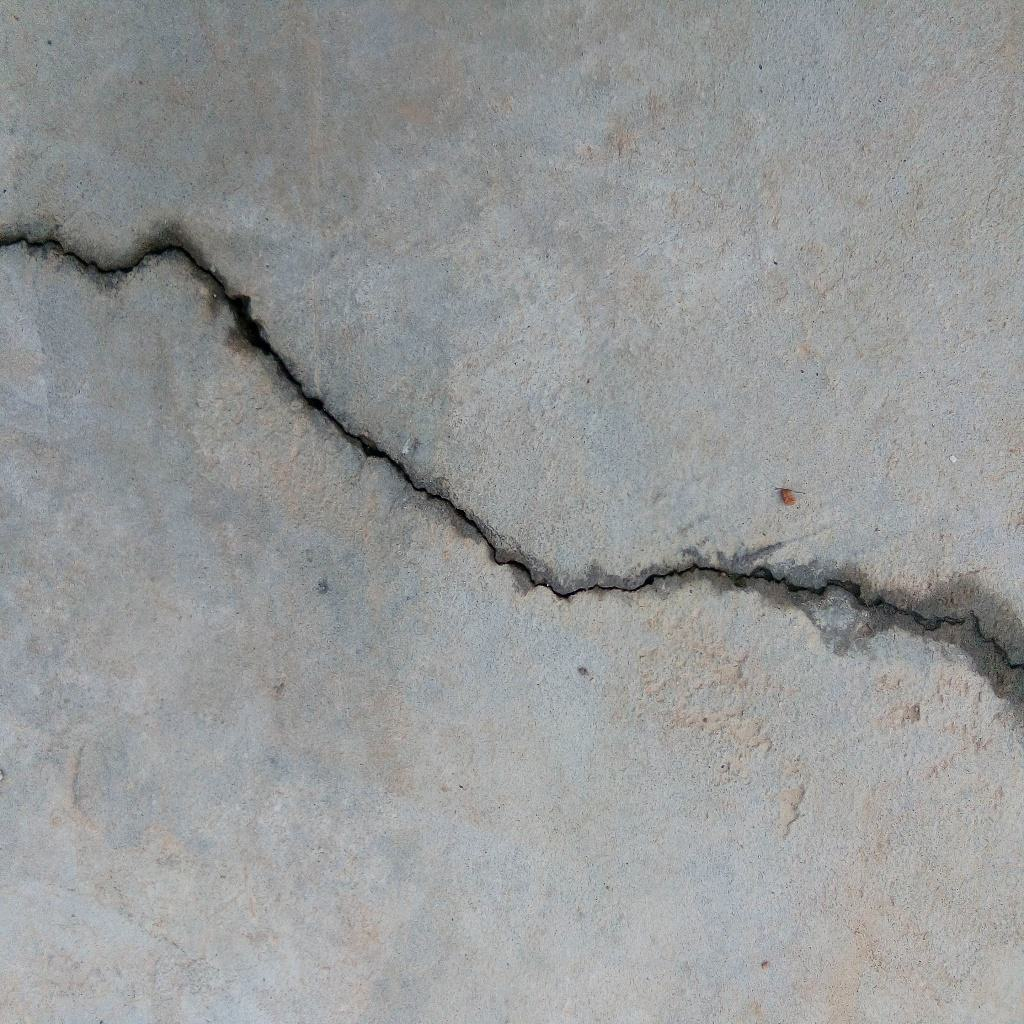Crack: (1, 234, 1024, 673)
